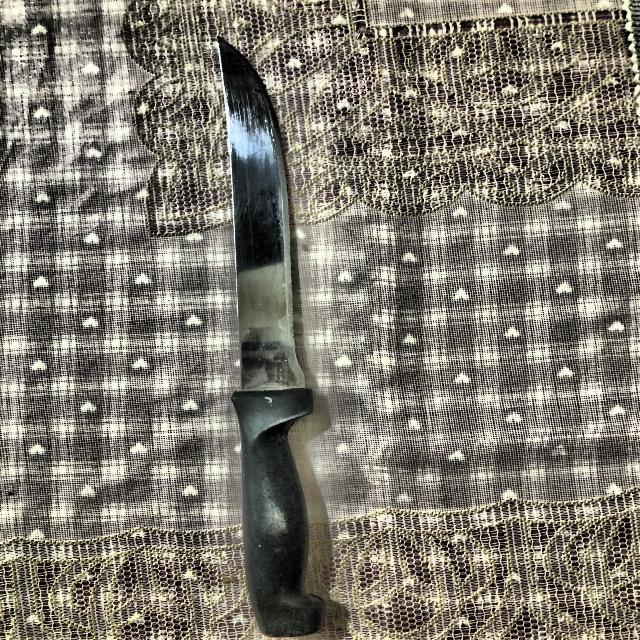knife: (215, 36, 327, 636)
